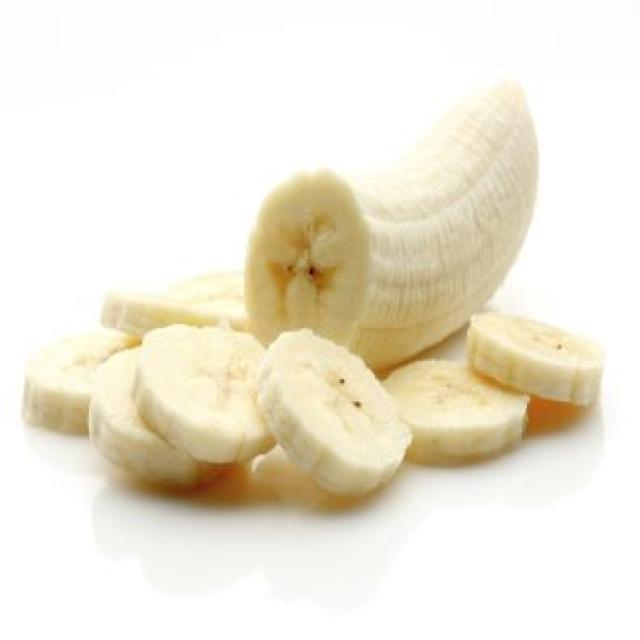banana: (246, 82, 538, 368), (259, 331, 410, 495), (135, 325, 273, 462), (89, 349, 223, 489), (384, 361, 528, 464), (468, 312, 604, 405), (23, 331, 138, 432), (102, 274, 247, 336), (169, 272, 247, 330)
